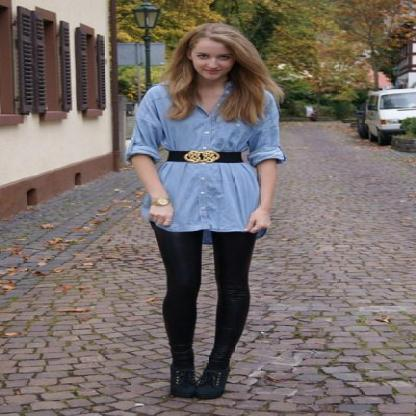dress: (123, 82, 285, 231)
pants: (151, 224, 257, 374)
shirt: (138, 149, 242, 164)
shoe: (167, 365, 200, 384)
